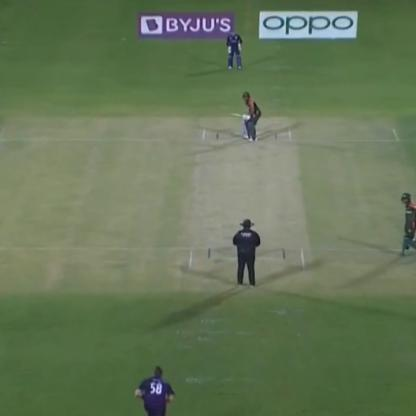bat: (218, 108, 250, 122)
pitch: (188, 133, 302, 268)
